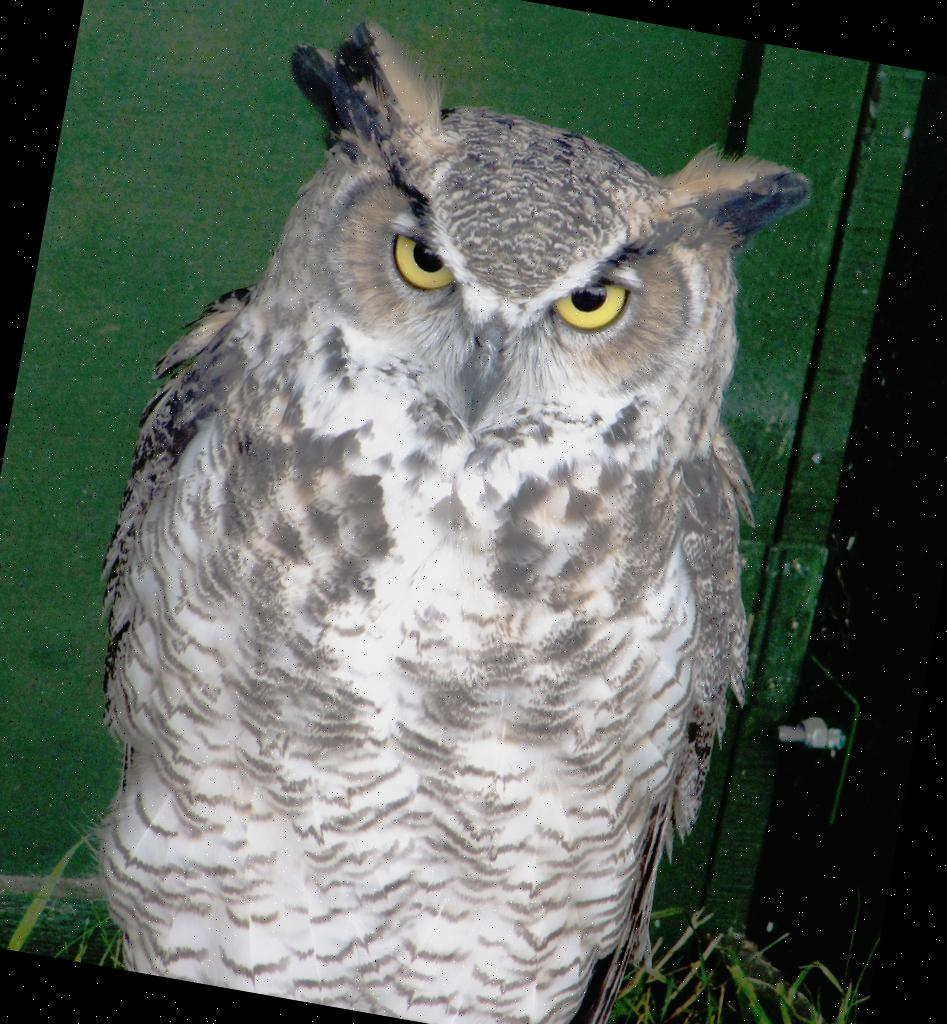Owl: (32, 0, 849, 1024)
